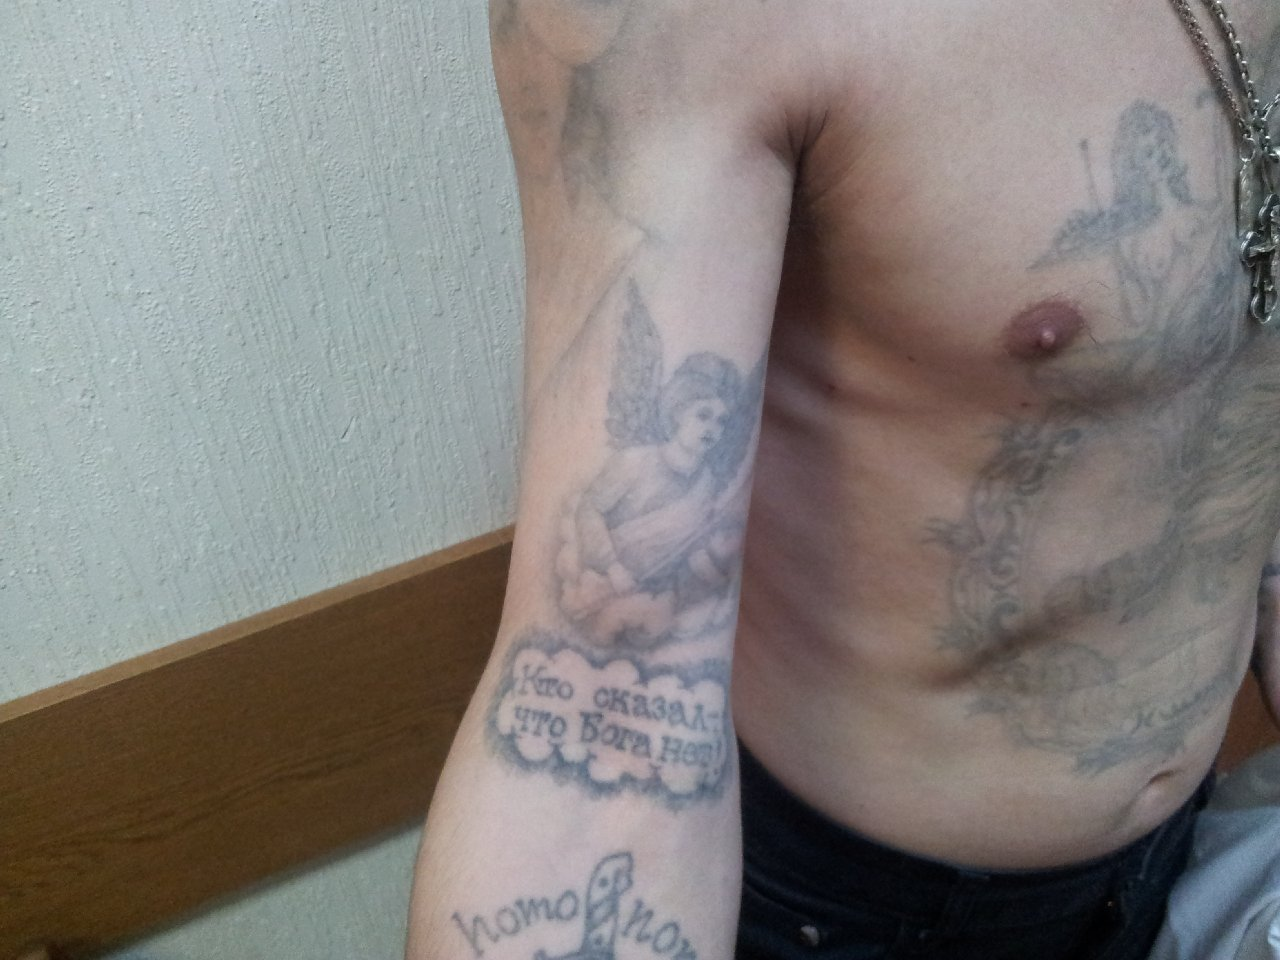tatu1_angel: (545, 271, 761, 643)
tatu3_bukva: (500, 647, 720, 801)
